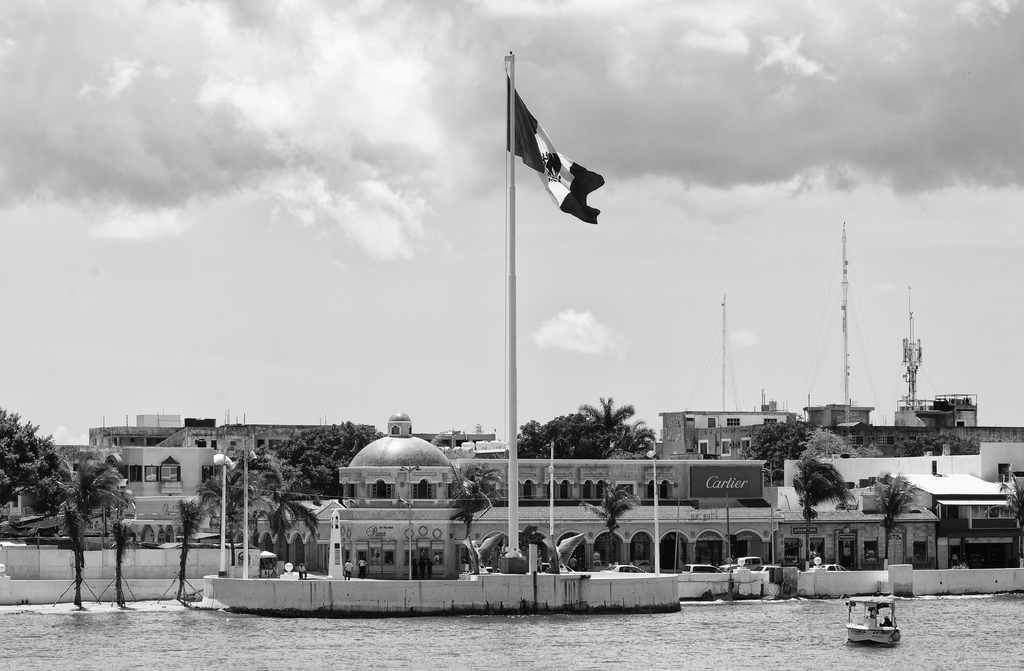boat: (836, 583, 923, 658)
